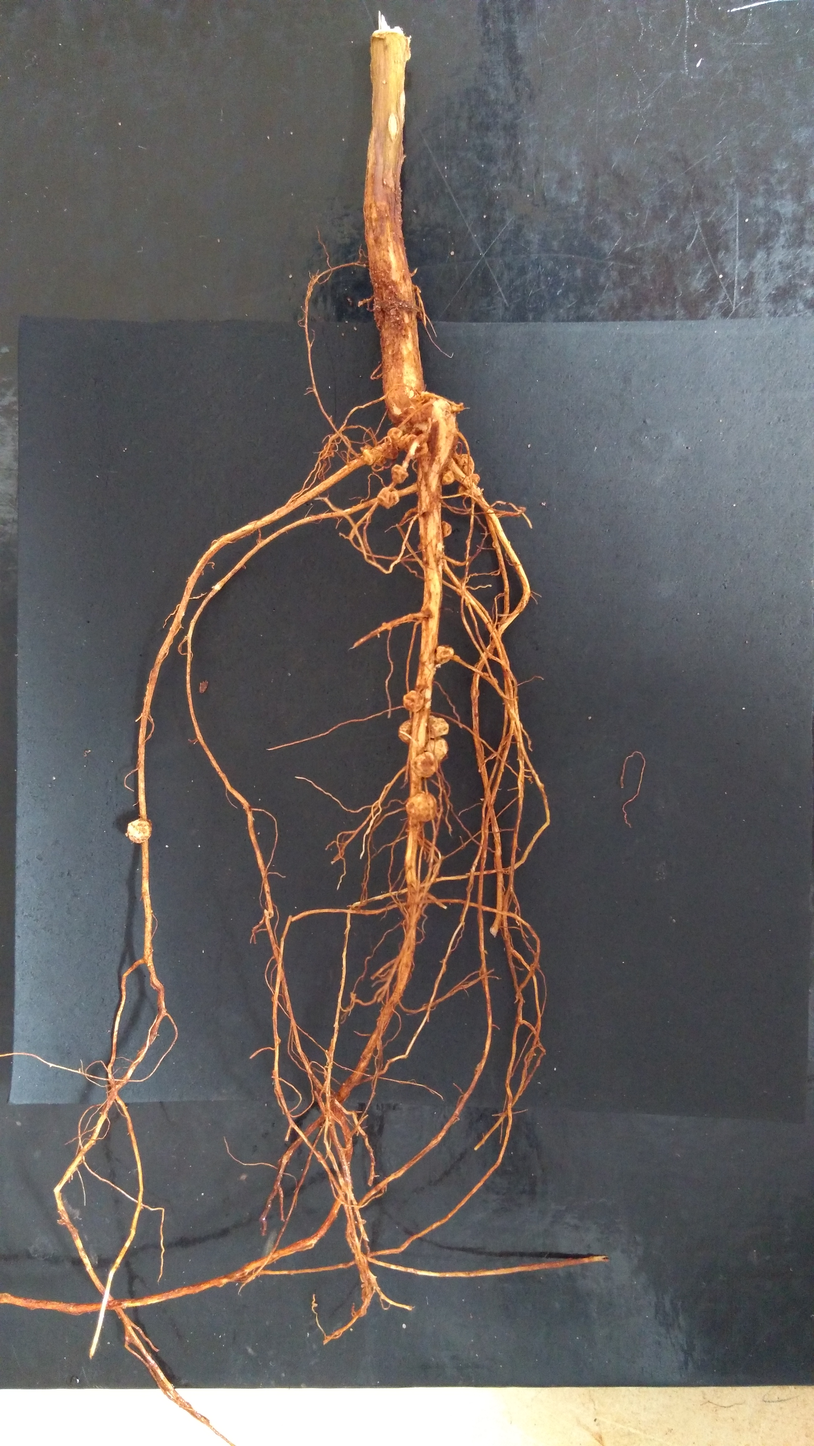nodule: (405, 791, 438, 823), (411, 751, 439, 779), (127, 818, 152, 843), (404, 434, 428, 459), (425, 736, 448, 762), (458, 473, 480, 498), (377, 486, 400, 509), (403, 690, 425, 713), (427, 715, 449, 738), (455, 453, 474, 477), (410, 417, 432, 437), (397, 718, 413, 745), (436, 645, 454, 665), (391, 463, 408, 484), (419, 450, 432, 473), (387, 427, 403, 445), (440, 470, 455, 486), (362, 449, 376, 465), (383, 446, 399, 460), (441, 520, 452, 538), (420, 390, 435, 402), (451, 401, 464, 413), (199, 680, 209, 694), (375, 456, 388, 466), (380, 300, 390, 310), (456, 584, 463, 596), (360, 445, 372, 451), (493, 677, 499, 685), (476, 487, 481, 496), (519, 506, 526, 512), (483, 671, 490, 677), (492, 541, 497, 549)
